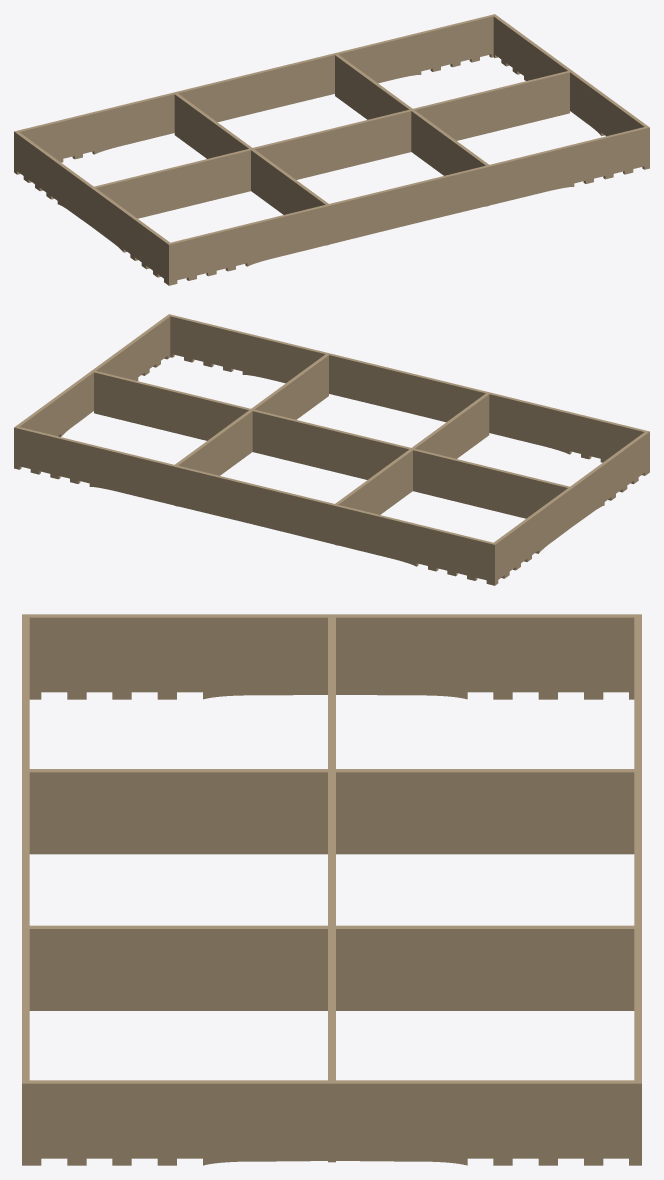
Rendered from Flow_V3_PARTIAL_FRAME_DESIGN_ONLY.glb.
3 renders of one model, top to bottom at view 1: azimuth 30°, elevation 25°; view 2: azimuth 150°, elevation 25°; view 3: azimuth 270°, elevation 25°, orthographic. The views are drawn at different scales.
Parts seen in each view (by area): view 1: L_south, LC, L_north, W_west, C_1, C_2, W_east; view 2: L_north, LC, L_south, W_west, C_1, C_2, W_east; view 3: C_1, C_2, W_east, W_west, L_south, L_north, LC.
Part boxes in pixels (<box>): L_south: <box>167,126,649,285</box>; LC: <box>90,71,569,222</box>; L_north: <box>14,14,496,173</box>; W_west: <box>14,132,172,283</box>; C_1: <box>174,93,330,245</box>; C_2: <box>335,54,491,206</box>; W_east: <box>493,15,649,163</box>; L_north: <box>14,426,496,585</box>; LC: <box>94,371,573,522</box>; L_south: <box>167,314,649,473</box>; W_west: <box>491,432,649,583</box>; C_1: <box>333,393,489,545</box>; C_2: <box>172,354,328,506</box>; W_east: <box>14,315,170,463</box>; C_1: <box>29,769,634,854</box>; C_2: <box>29,925,634,1010</box>; W_east: <box>22,1080,641,1165</box>; W_west: <box>29,614,634,699</box>; L_south: <box>22,614,29,1165</box>; L_north: <box>634,614,641,1165</box>; LC: <box>328,617,335,1162</box>.
Size of the model in its own units: 0.86 by 0.07 by 0.48.
